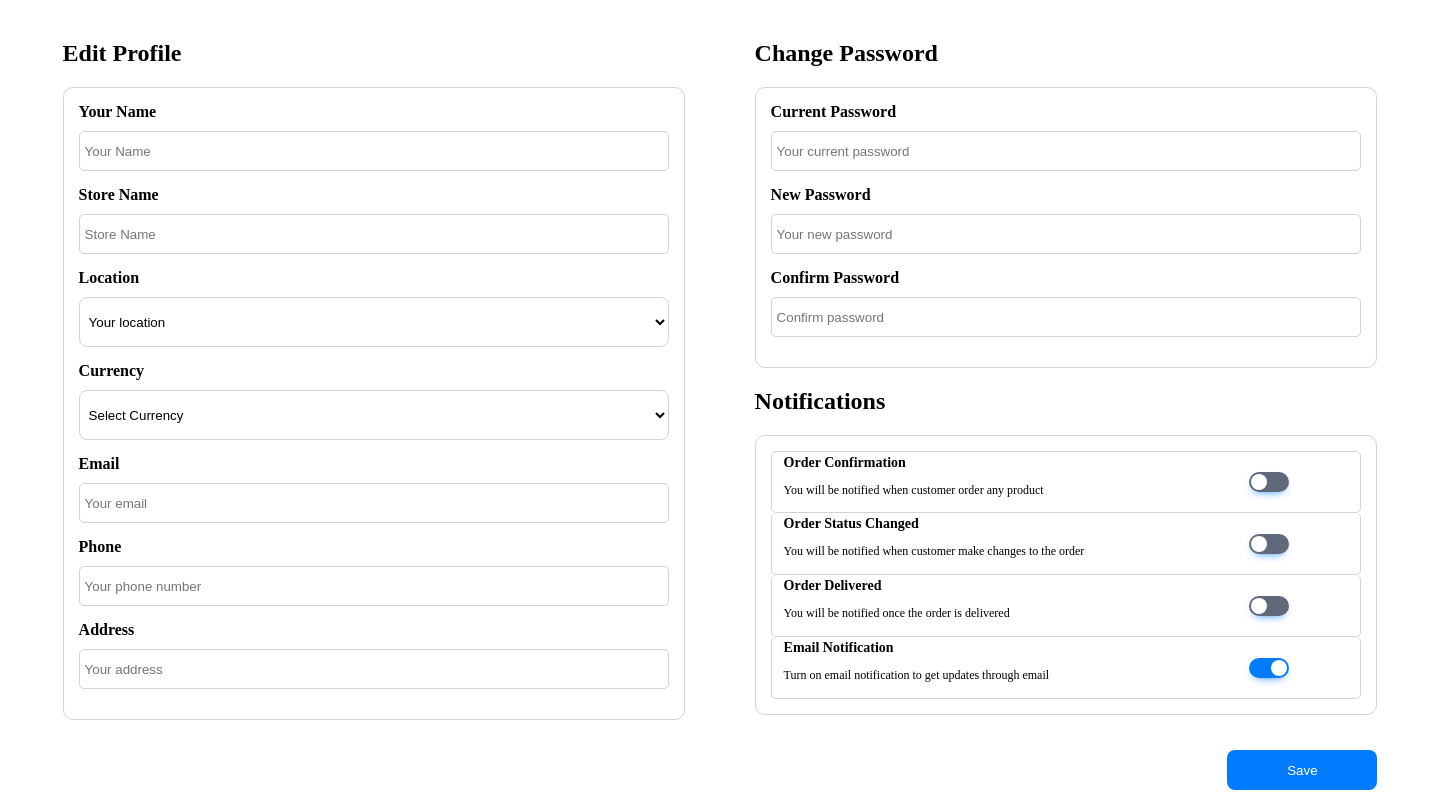
it: Edit profile form tests › Edit profile fieldset tests › should validate store name field
In the field with test id "store-name": (374, 234) x1=79 y1=214 x2=669 y2=254, type "1"
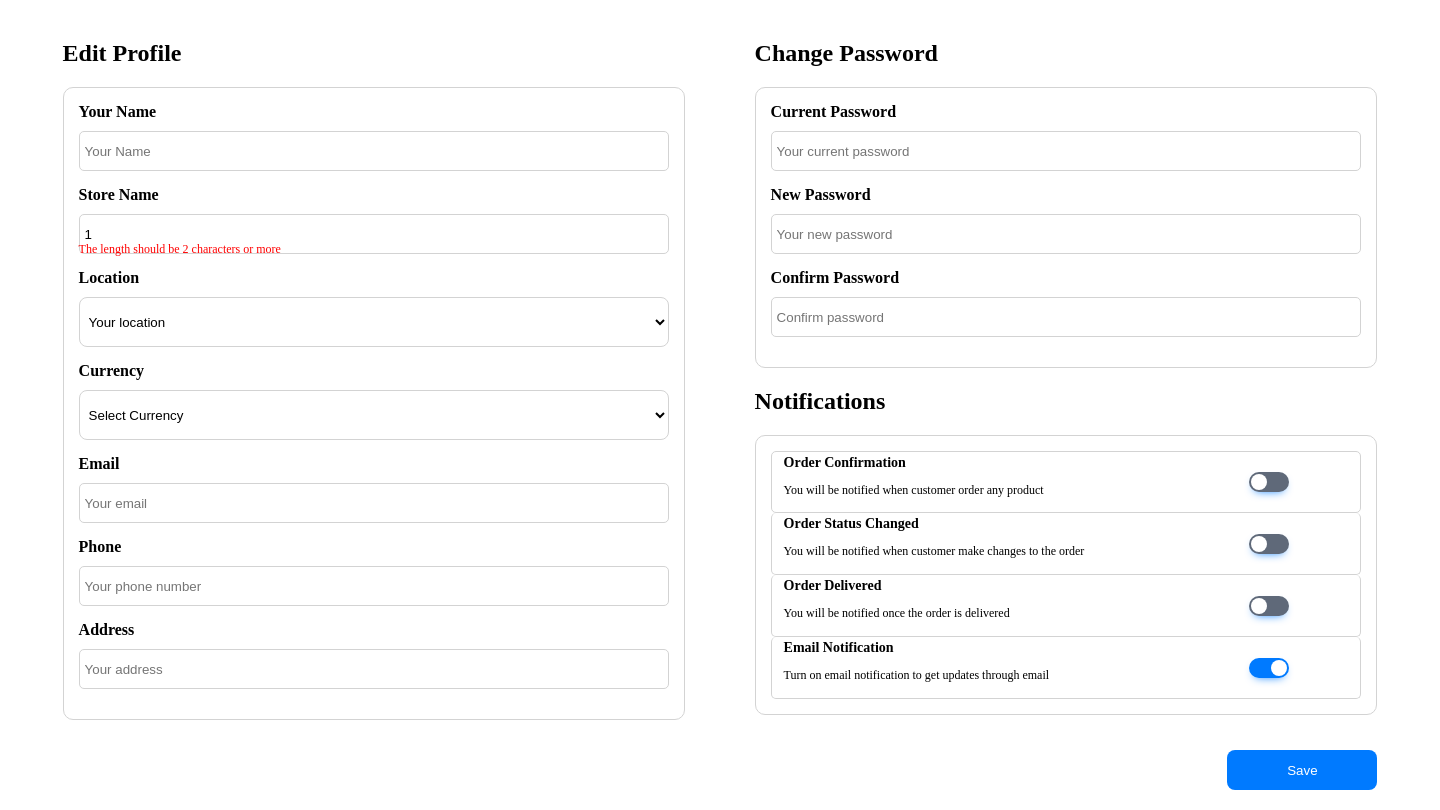
Expected: the text "The length should be 2 characters or more" is shown, x1=79 y1=242 x2=281 y2=257
Replace the text in the field with test id "store-name" with "123456789012345678901": (374, 234) x1=79 y1=214 x2=669 y2=254
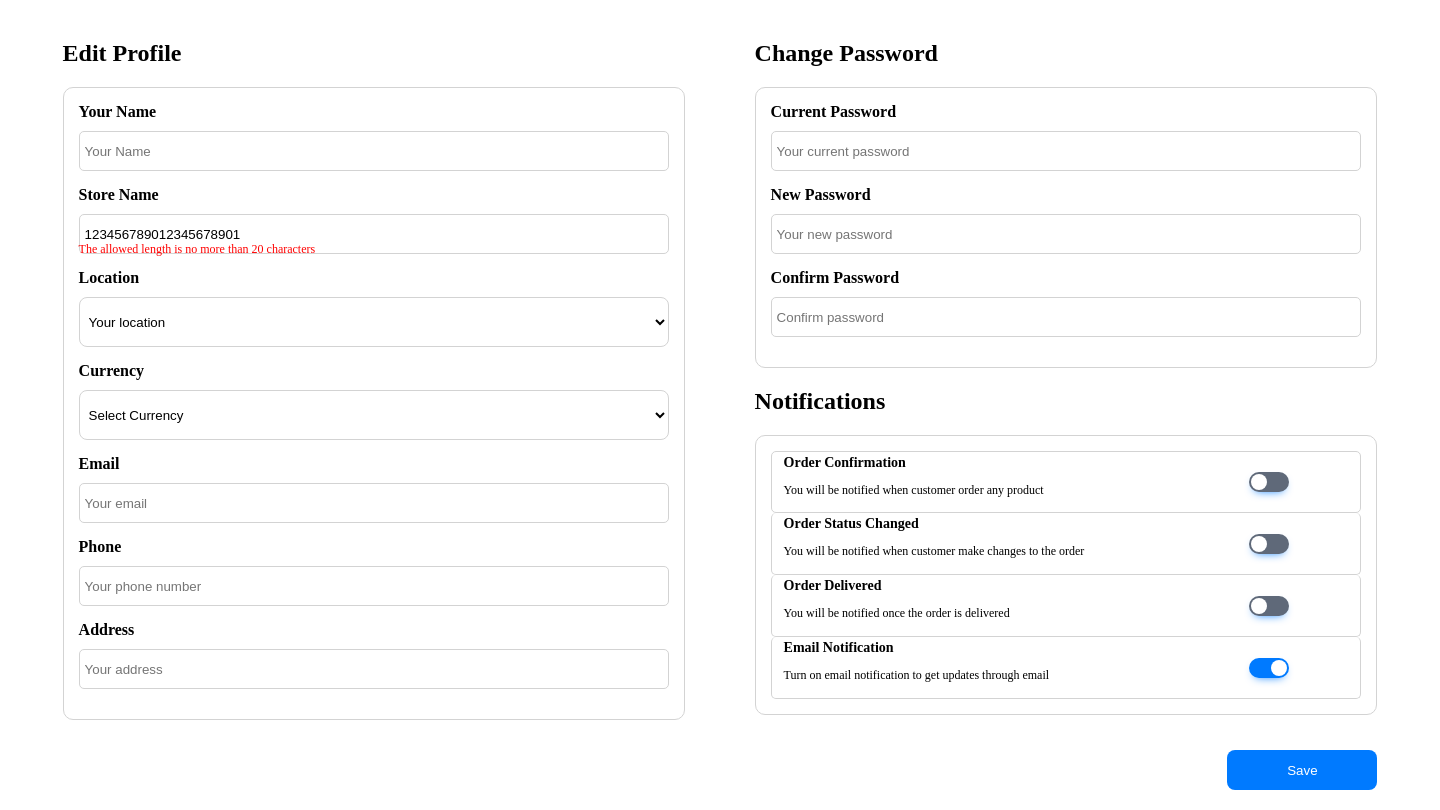
Expected: the text "The allowed length is no more than 20 characters" is shown, x1=79 y1=242 x2=315 y2=257
